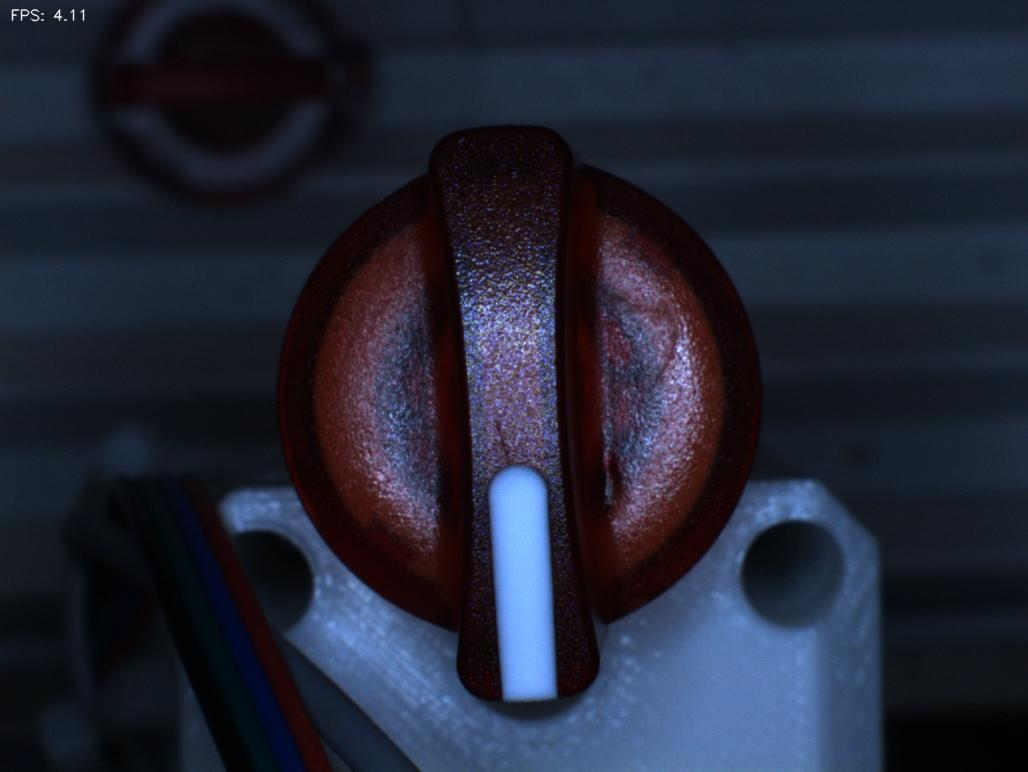Choc: (574, 415, 648, 532)
